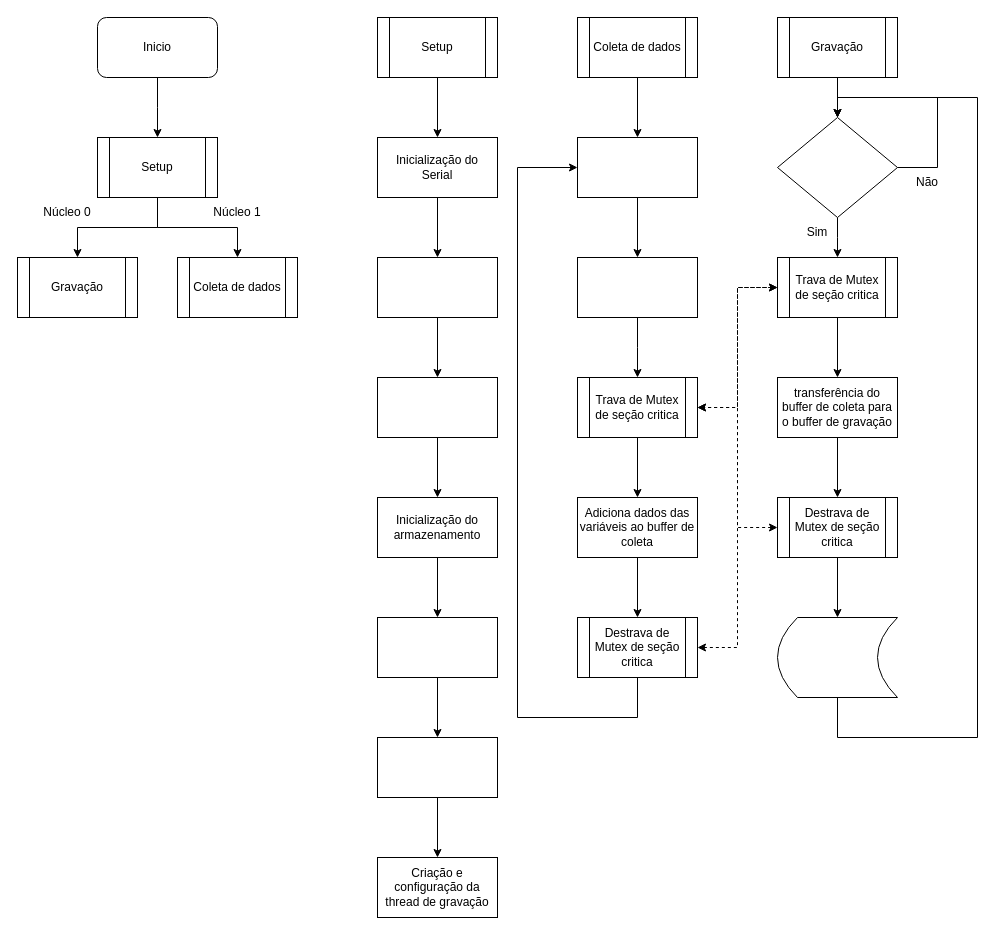
The diagram is 1003 pixels wide and 935 high, and some of its shapes have lost their labels. The shapes that lost their labels are listed below. From the top down, each one's centre as x and y in pixels, then its label:
pixel 637 167: Coleta de dados do Acelerômetro e giroscópio em variável
pixel 837 167: Buffer de coleta com tamanho minimo para gravação
pixel 437 287: Definição dos I/O
pixel 637 287: Coleta de dados dos conversores analógico/digital em variável
pixel 437 407: Inicialização dos sensores
pixel 437 647: Configuração do acelerômetro e giroscópio
pixel 837 657: Gravação do buffer no armazenamento
pixel 437 767: Criação do novo arquivo CSV
